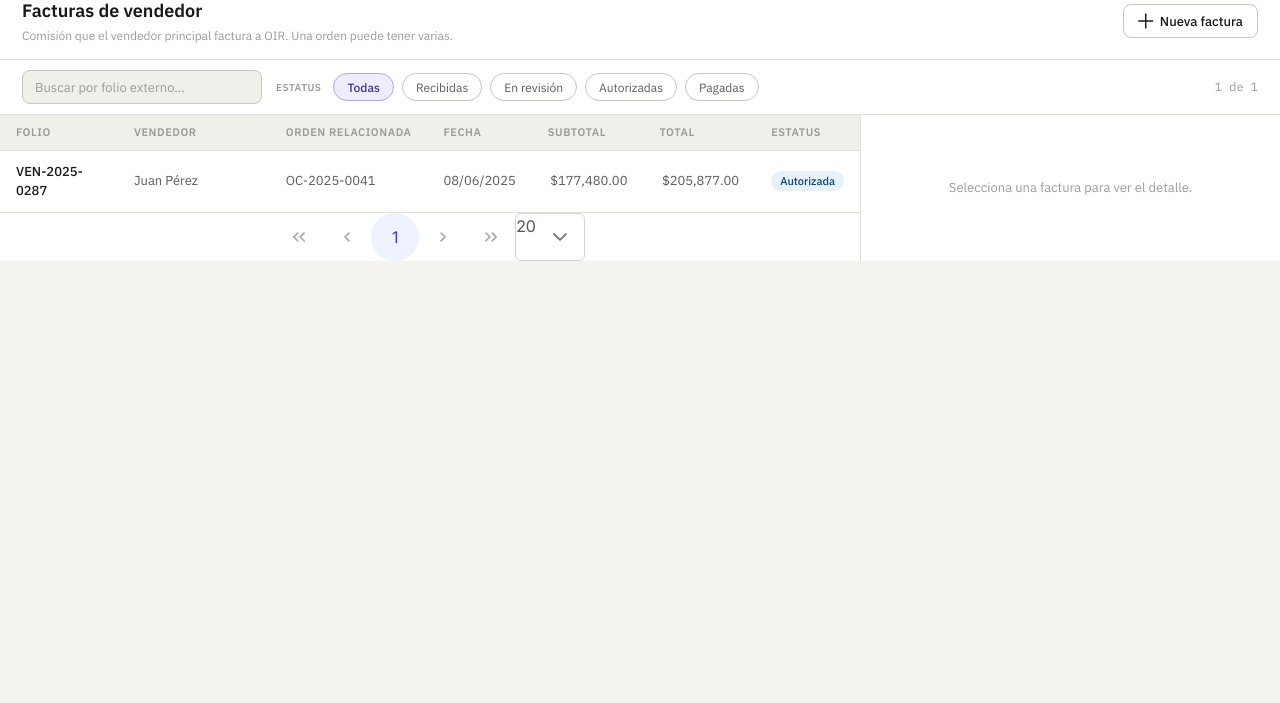
FacturasVendedorPage — paridad con Facturas de agencia › muestra el archivo adjunto (PDF/XML) cuando existe
This screenshot has width=1280, height=703.
What coordinates should you click on to do the following:
click the text "VEN-2025-0287"
I would click on:
 (59, 181)
Its box is [0,150,118,212].
(page scrolled)
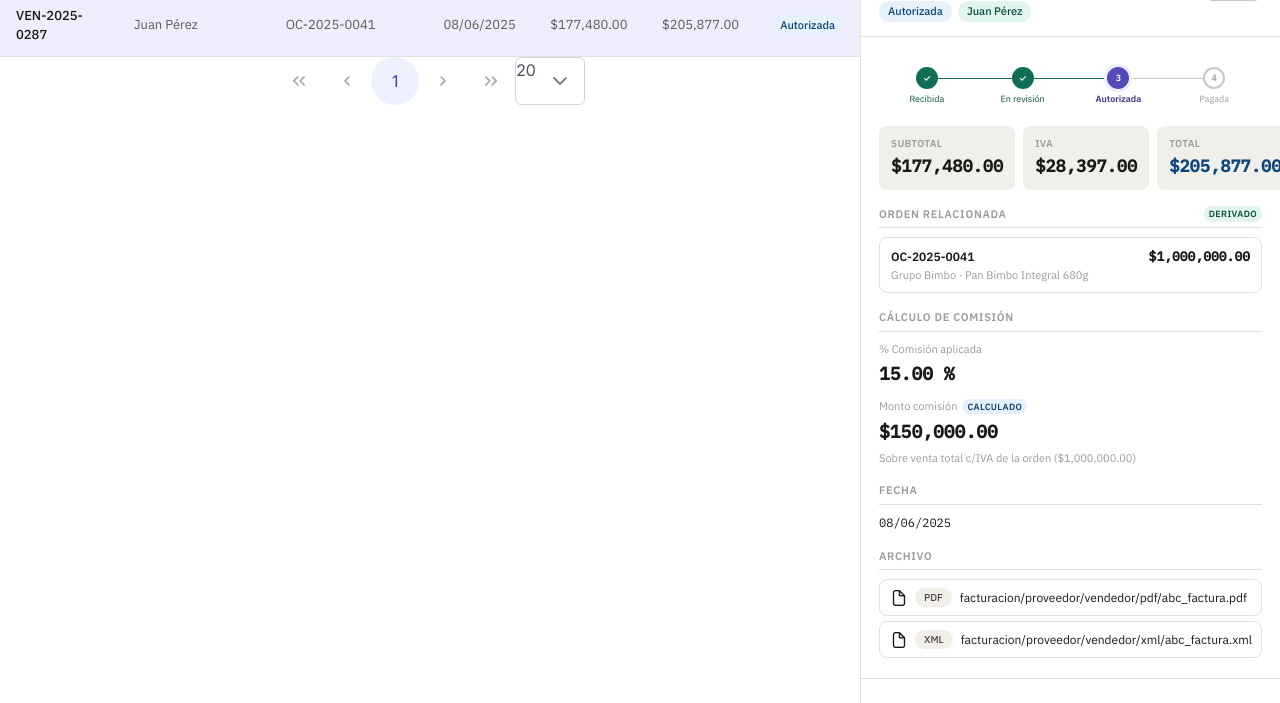
Check: the text "Cálculo de comisión" is shown, box [879,309,1262,332]
Check: the button "facturacion/proveedor/vendedor/pdf/abc_factura.pdf" is shown, box [879,579,1262,616]
Check: the button "facturacion/proveedor/vendedor/xml/abc_factura.xml" is shown, box [879,621,1262,658]
